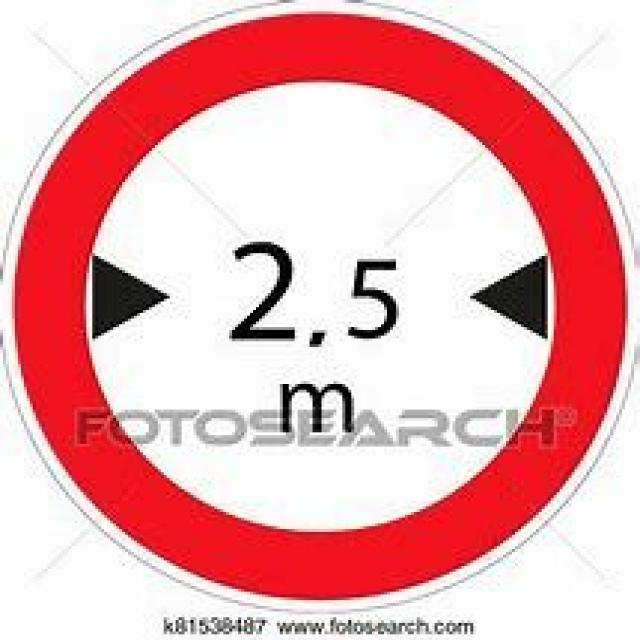WIDTH_LIMIT: (9, 9, 628, 598)
